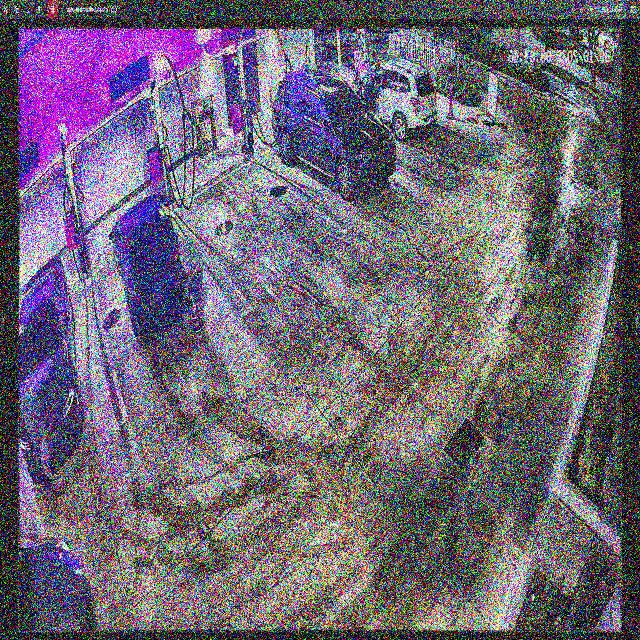Car: (272, 71, 398, 197), (110, 189, 186, 340)
